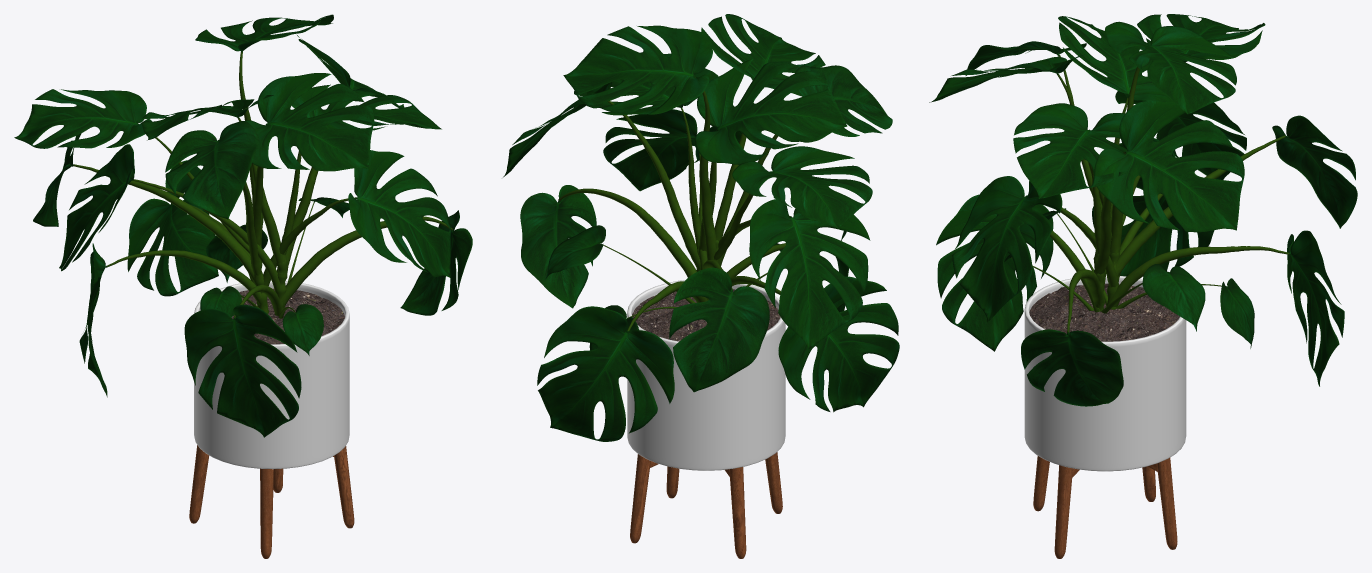
File: Plant1.fbx
3 views of the same model, side by side, from view 1: azimuth 30°, elevation 25°; view 2: azimuth 150°, elevation 25°; view 3: azimuth 270°, elevation 25° (orthographic). The views are drawn at different scales.
Parts seen in each view (by area): view 1: Plant1; view 2: Plant1; view 3: Plant1.
Boxes of the visible parts, x1,y1,x2,y2 form: Plant1: (14, 14, 472, 558); Plant1: (503, 14, 899, 558); Plant1: (929, 14, 1357, 558).
Bounding box in the file's own units: 77.87 × 94.73 × 73.03.
